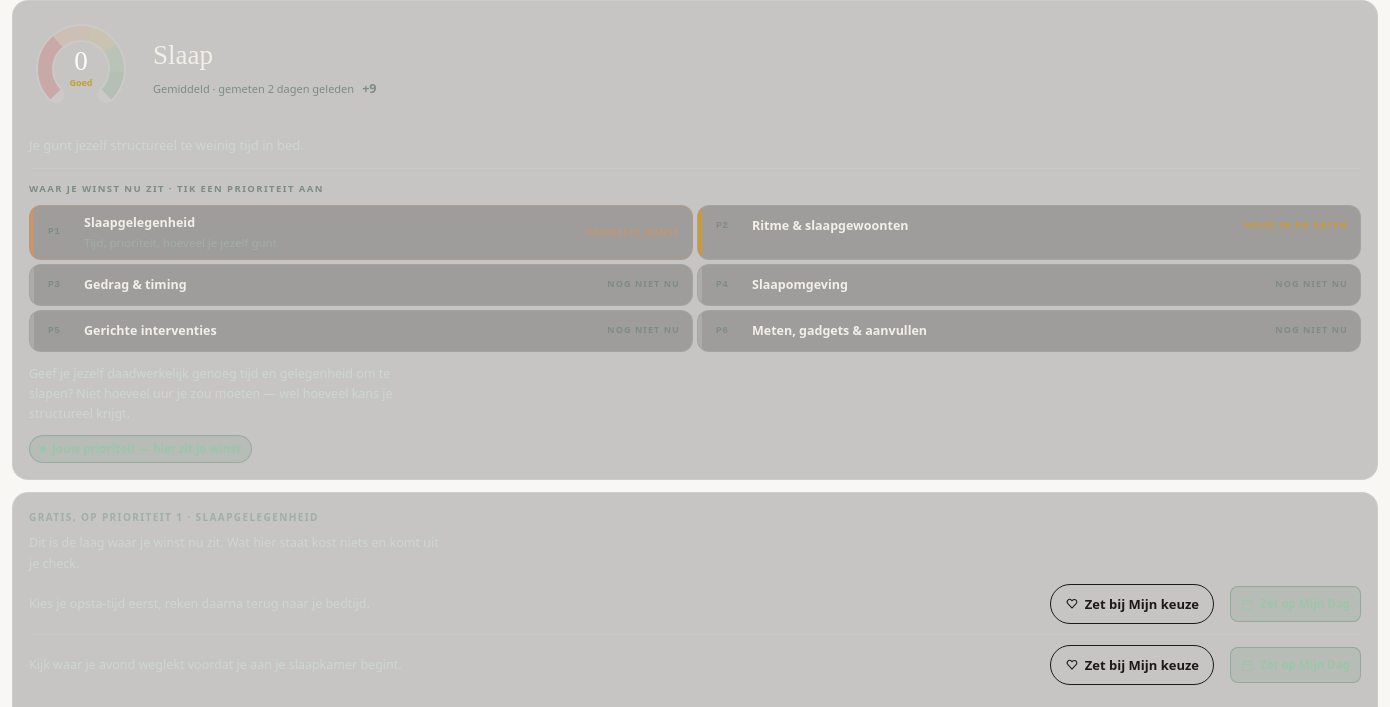
Test: DomainKompasScreen — slaap draagt hetzelfde scherm als beweging › laat een andere laag aanklikken en biedt de weg terug naar de winst-laag
Expected: the text "Jouw prioriteit — hier zit je winst" is shown, [29,434,252,463]
Expected: the button "Terug naar jouw prioriteit" is not shown
Click the button "P4 Slaapomgeving Nog niet nu". click: (800, 284)
box: [698,265,1360,305]
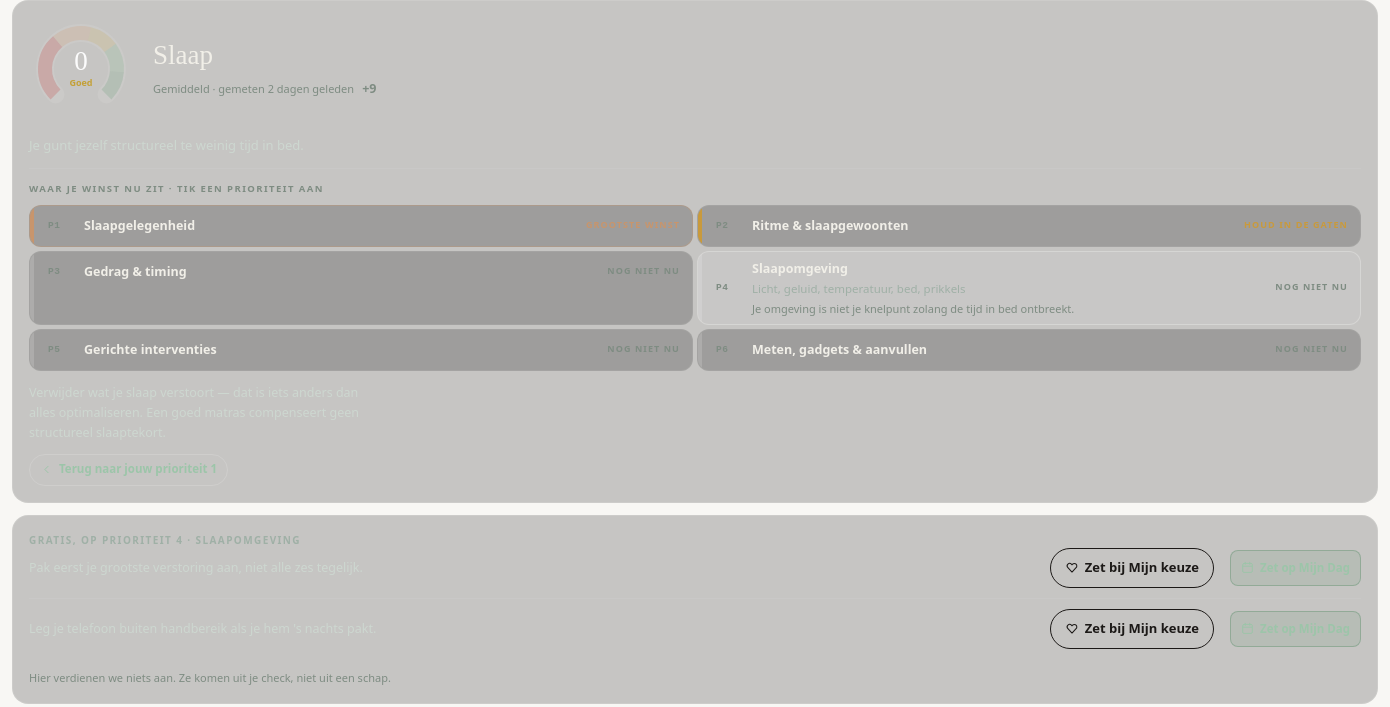
Now the text "Jouw prioriteit — hier zit je winst" is gone
Click the button "Terug naar jouw prioriteit 1". click: (129, 470)
box: [29,454,228,486]
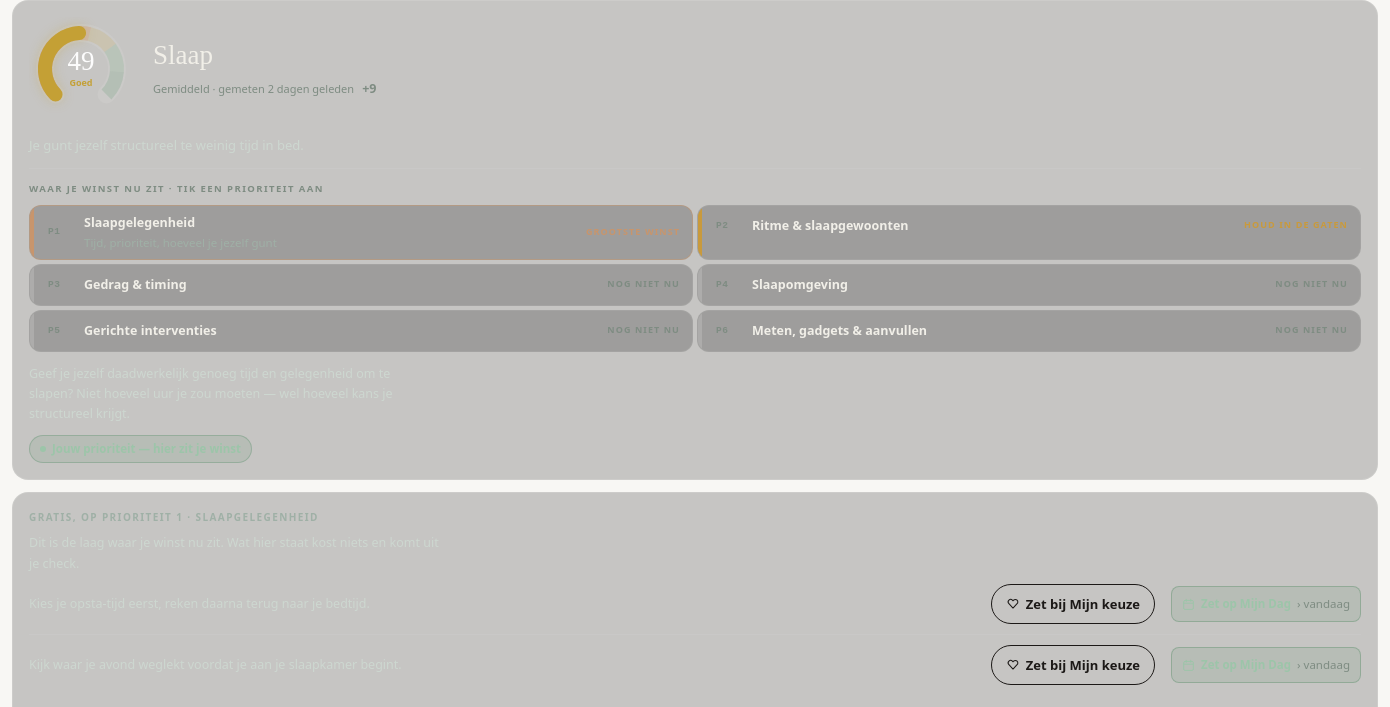
Now the button "Terug naar jouw prioriteit" is gone
Now the text "Jouw prioriteit — hier zit je winst" is shown, box [29,434,252,463]
